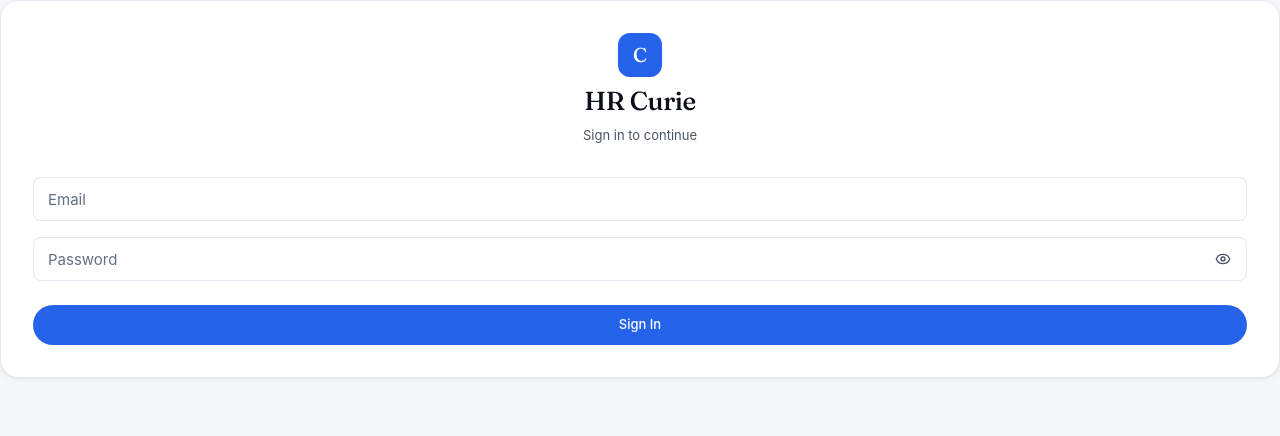
Test: LoginForm › error display › shows an error when credentials are rejected
Step 1. Type "sofia@company.com" into the field with placeholder "Email" → point(640, 199), box x1=33 y1=177 x2=1247 y2=221
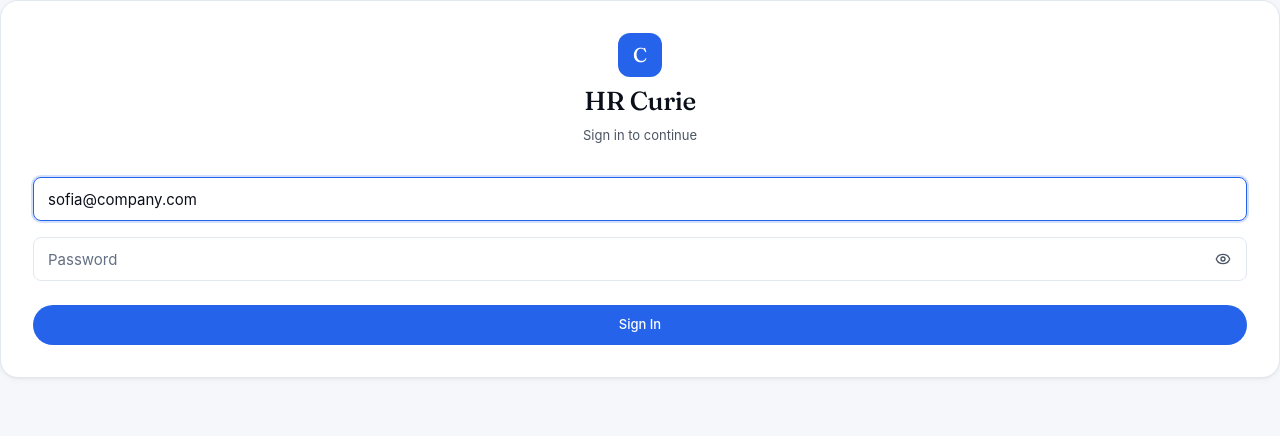
Step 2. Type "wrong-pass" into the password field with placeholder "Password" → point(640, 259), box x1=33 y1=237 x2=1247 y2=281
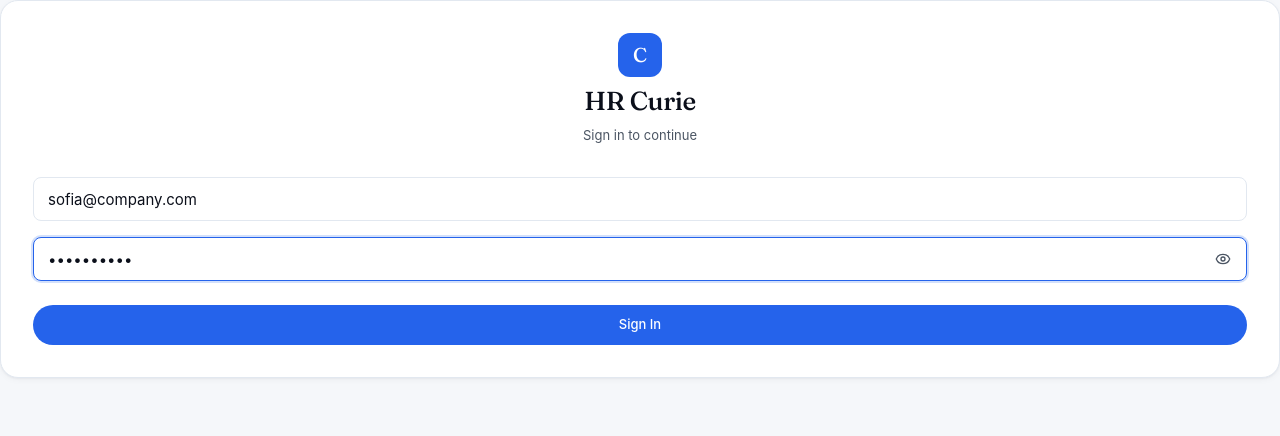
Step 3. Click the button "Sign In" → point(640, 325), box x1=33 y1=305 x2=1247 y2=345
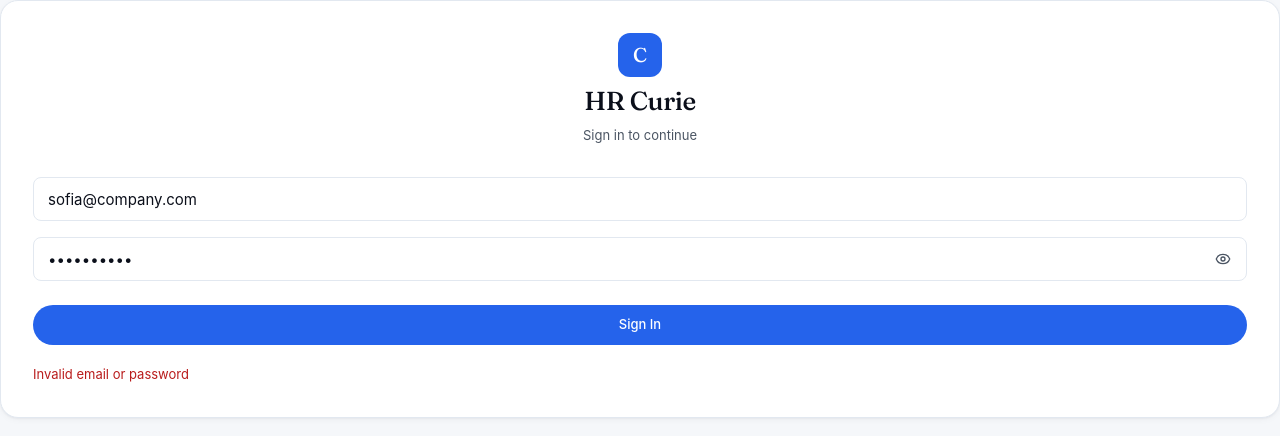
expect the text "Invalid email or password" is shown: met, box x1=33 y1=366 x2=189 y2=382
